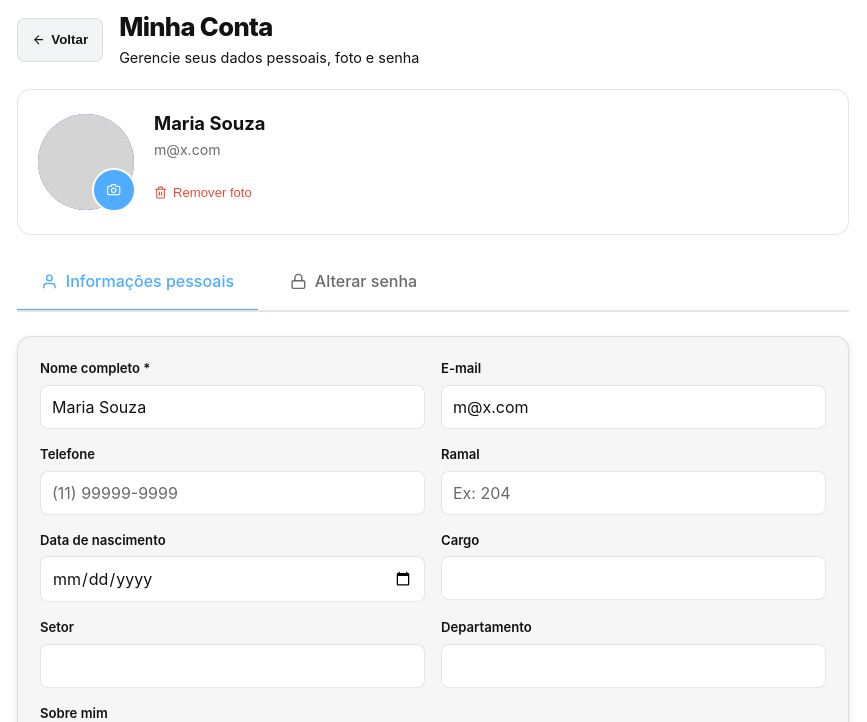
Scenario: remover zera foto_url e foto_src: iniciais e sem botao de remover
The image size is (867, 722).
Click the button with class "conta-remover-foto" at (203, 192), box [154, 170, 252, 214]
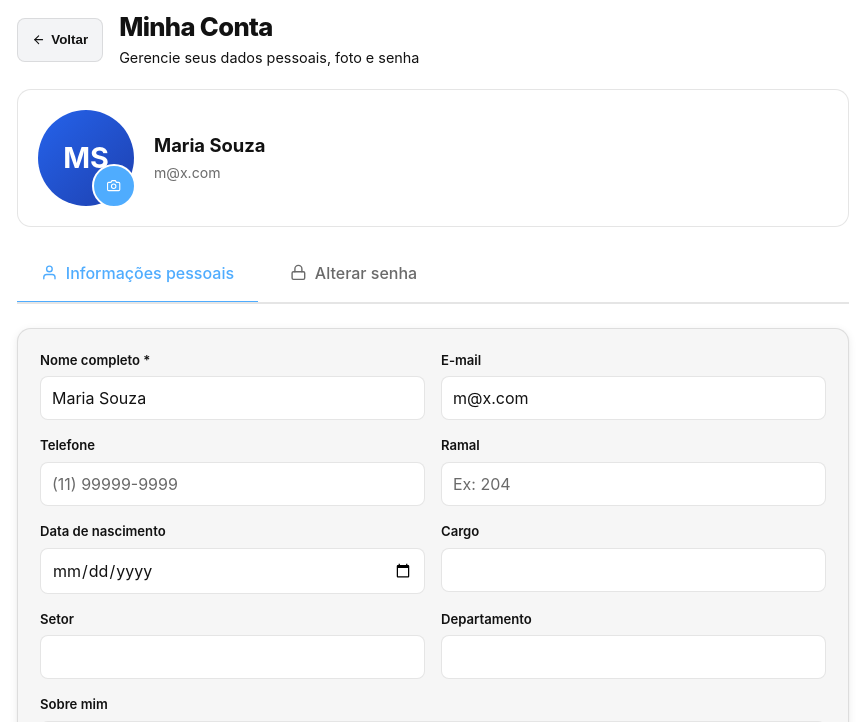
Expected: the text with class "conta-avatar-placeholder" reads "MS", [63, 140, 109, 175]
Expected: the button with class "conta-remover-foto" is gone
